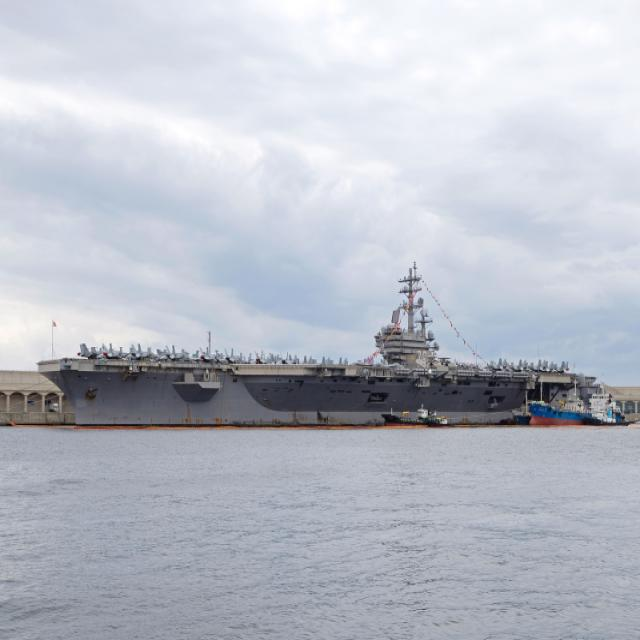Portanaves: (34, 258, 619, 431)
